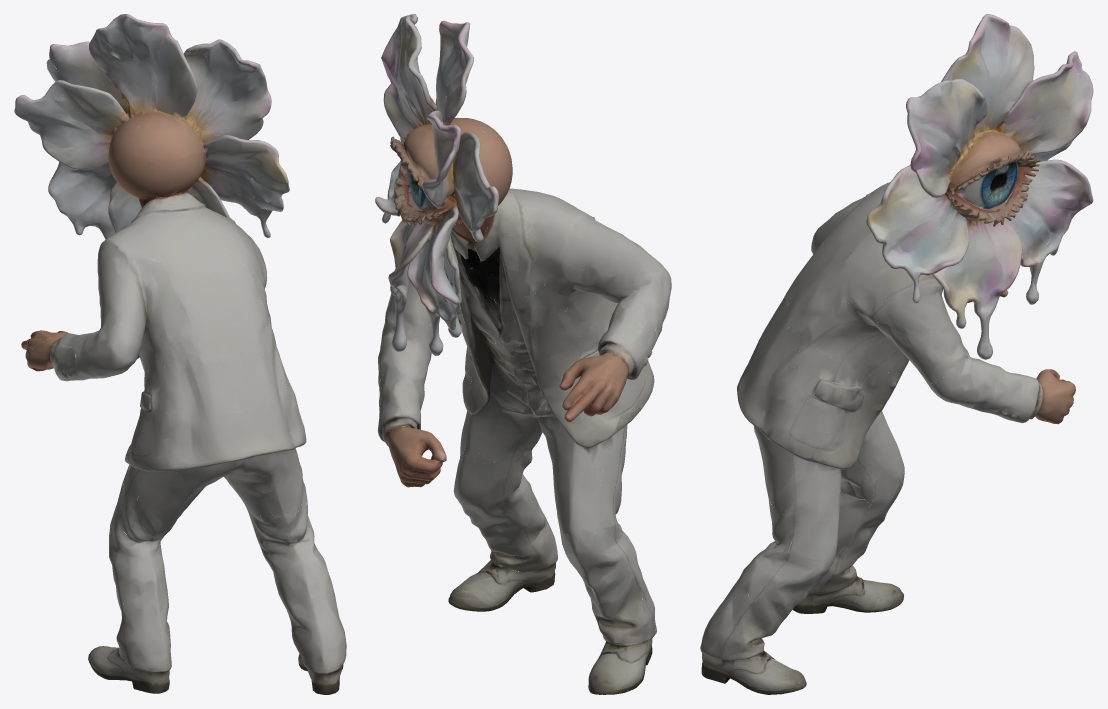
File: hustler.glb
3 views of the same model, side by side, from view 1: azimuth 30°, elevation 25°; view 2: azimuth 150°, elevation 25°; view 3: azimuth 270°, elevation 25° (orthographic). The views are drawn at different scales.
Visible parts, largest first — view 1: tripo_node_9c831a25-49ee-4494-91a2-c6b040481e57; view 2: tripo_node_9c831a25-49ee-4494-91a2-c6b040481e57; view 3: tripo_node_9c831a25-49ee-4494-91a2-c6b040481e57.
Boxes of the visible parts, box(x1,y1,x2,y2) form: tripo_node_9c831a25-49ee-4494-91a2-c6b040481e57: box(14, 14, 346, 694); tripo_node_9c831a25-49ee-4494-91a2-c6b040481e57: box(375, 14, 671, 694); tripo_node_9c831a25-49ee-4494-91a2-c6b040481e57: box(700, 14, 1093, 694).
Size of the model in its own units: 0.3931 by 1 by 0.5681.
Materials: 1 (1 with a texture image).
